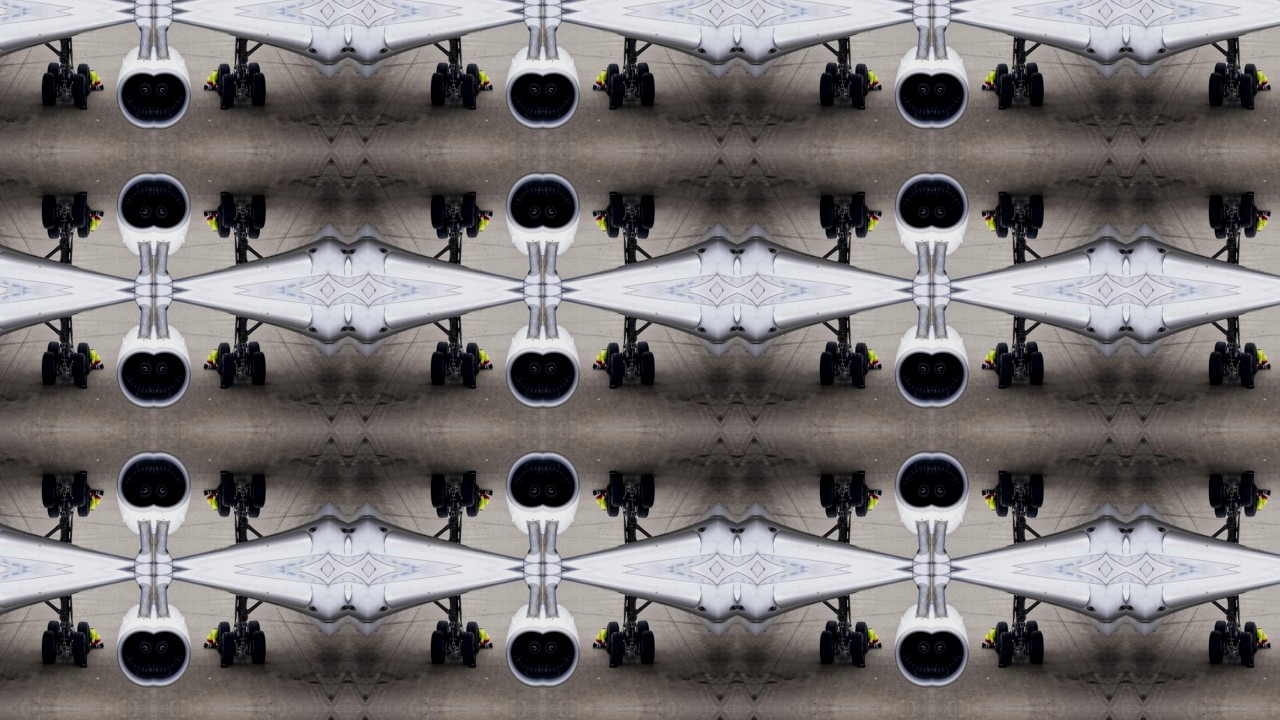chock: (77, 103, 87, 109), (218, 103, 228, 109), (467, 103, 477, 109), (608, 103, 618, 109), (857, 103, 867, 109), (998, 103, 1008, 109), (1247, 103, 1257, 109), (77, 191, 87, 197), (218, 191, 228, 197), (467, 191, 477, 197), (608, 191, 618, 197), (857, 191, 867, 197), (998, 191, 1008, 197), (1247, 191, 1257, 197), (77, 383, 87, 389), (218, 383, 228, 389), (467, 383, 477, 389), (608, 383, 618, 389), (857, 383, 867, 389), (998, 383, 1008, 389), (1247, 383, 1257, 389), (77, 471, 87, 477), (218, 471, 228, 477), (467, 471, 477, 477), (608, 471, 618, 477), (857, 471, 867, 477), (998, 471, 1008, 477), (1247, 471, 1257, 477), (77, 663, 87, 669), (218, 663, 228, 669), (467, 663, 477, 669), (608, 663, 618, 669), (857, 663, 867, 669), (998, 663, 1008, 669), (1247, 663, 1257, 669)
wheel: (71, 71, 87, 108), (218, 71, 234, 108), (461, 71, 477, 108), (608, 71, 624, 108), (851, 71, 867, 108), (998, 71, 1014, 108), (1241, 71, 1257, 108), (71, 192, 87, 229), (218, 192, 234, 229), (461, 192, 477, 229), (608, 192, 624, 229), (851, 192, 867, 229), (998, 192, 1014, 229), (1241, 192, 1257, 229), (71, 351, 87, 388), (218, 351, 234, 388), (461, 351, 477, 388), (608, 351, 624, 388), (851, 351, 867, 388), (998, 351, 1014, 388), (1241, 351, 1257, 388), (71, 472, 87, 509), (218, 472, 234, 509), (461, 472, 477, 509), (608, 472, 624, 509), (851, 472, 867, 509), (998, 472, 1014, 509), (1241, 472, 1257, 509), (71, 631, 87, 668), (218, 631, 234, 668), (461, 631, 477, 668), (608, 631, 624, 668), (851, 631, 867, 668), (998, 631, 1014, 668), (1241, 631, 1257, 668), (40, 70, 56, 105), (249, 70, 265, 105), (430, 70, 446, 105), (639, 70, 655, 105), (820, 70, 836, 105), (1029, 70, 1045, 105), (1210, 70, 1226, 105), (40, 195, 56, 230), (249, 195, 265, 230), (430, 195, 446, 230), (639, 195, 655, 230), (820, 195, 836, 230), (1029, 195, 1045, 230), (1210, 195, 1226, 230), (40, 350, 56, 385), (249, 350, 265, 385), (430, 350, 446, 385), (639, 350, 655, 385), (820, 350, 836, 385), (1029, 350, 1045, 385), (1210, 350, 1226, 385), (40, 475, 56, 510), (249, 475, 265, 510), (430, 475, 446, 510), (639, 475, 655, 510), (820, 475, 836, 510), (1029, 475, 1045, 510), (1210, 475, 1226, 510), (40, 630, 56, 665), (249, 630, 265, 665), (430, 630, 446, 665), (639, 630, 655, 665), (820, 630, 836, 665), (1029, 630, 1045, 665), (1210, 630, 1226, 665), (75, 62, 90, 95), (215, 62, 230, 95), (465, 62, 480, 95), (605, 62, 620, 95), (855, 62, 870, 95), (995, 62, 1010, 95), (1245, 62, 1260, 95), (75, 205, 90, 238), (215, 205, 230, 238), (465, 205, 480, 238), (605, 205, 620, 238), (855, 205, 870, 238), (995, 205, 1010, 238), (1245, 205, 1260, 238), (75, 342, 90, 375), (215, 342, 230, 375), (465, 342, 480, 375), (605, 342, 620, 375), (855, 342, 870, 375), (995, 342, 1010, 375), (1245, 342, 1260, 375), (75, 485, 90, 518), (215, 485, 230, 518), (465, 485, 480, 518), (605, 485, 620, 518), (855, 485, 870, 518), (995, 485, 1010, 518), (1245, 485, 1260, 518), (75, 622, 90, 655), (215, 622, 230, 655), (465, 622, 480, 655), (605, 622, 620, 655), (855, 622, 870, 655), (995, 622, 1010, 655), (1245, 622, 1260, 655), (47, 61, 60, 82), (245, 61, 258, 82), (437, 61, 450, 82), (635, 61, 648, 82), (827, 61, 840, 82), (1025, 61, 1038, 82), (1217, 61, 1230, 82), (47, 218, 60, 239), (245, 218, 258, 239), (437, 218, 450, 239), (635, 218, 648, 239), (827, 218, 840, 239), (1025, 218, 1038, 239), (1217, 218, 1230, 239), (47, 341, 60, 362), (245, 341, 258, 362), (437, 341, 450, 362), (635, 341, 648, 362), (827, 341, 840, 362), (1025, 341, 1038, 362), (1217, 341, 1230, 362), (47, 498, 60, 519), (245, 498, 258, 519), (437, 498, 450, 519), (635, 498, 648, 519), (827, 498, 840, 519), (1025, 498, 1038, 519), (1217, 498, 1230, 519), (47, 621, 60, 642), (245, 621, 258, 642), (437, 621, 450, 642), (635, 621, 648, 642), (827, 621, 840, 642), (1025, 621, 1038, 642), (1217, 621, 1230, 642)
